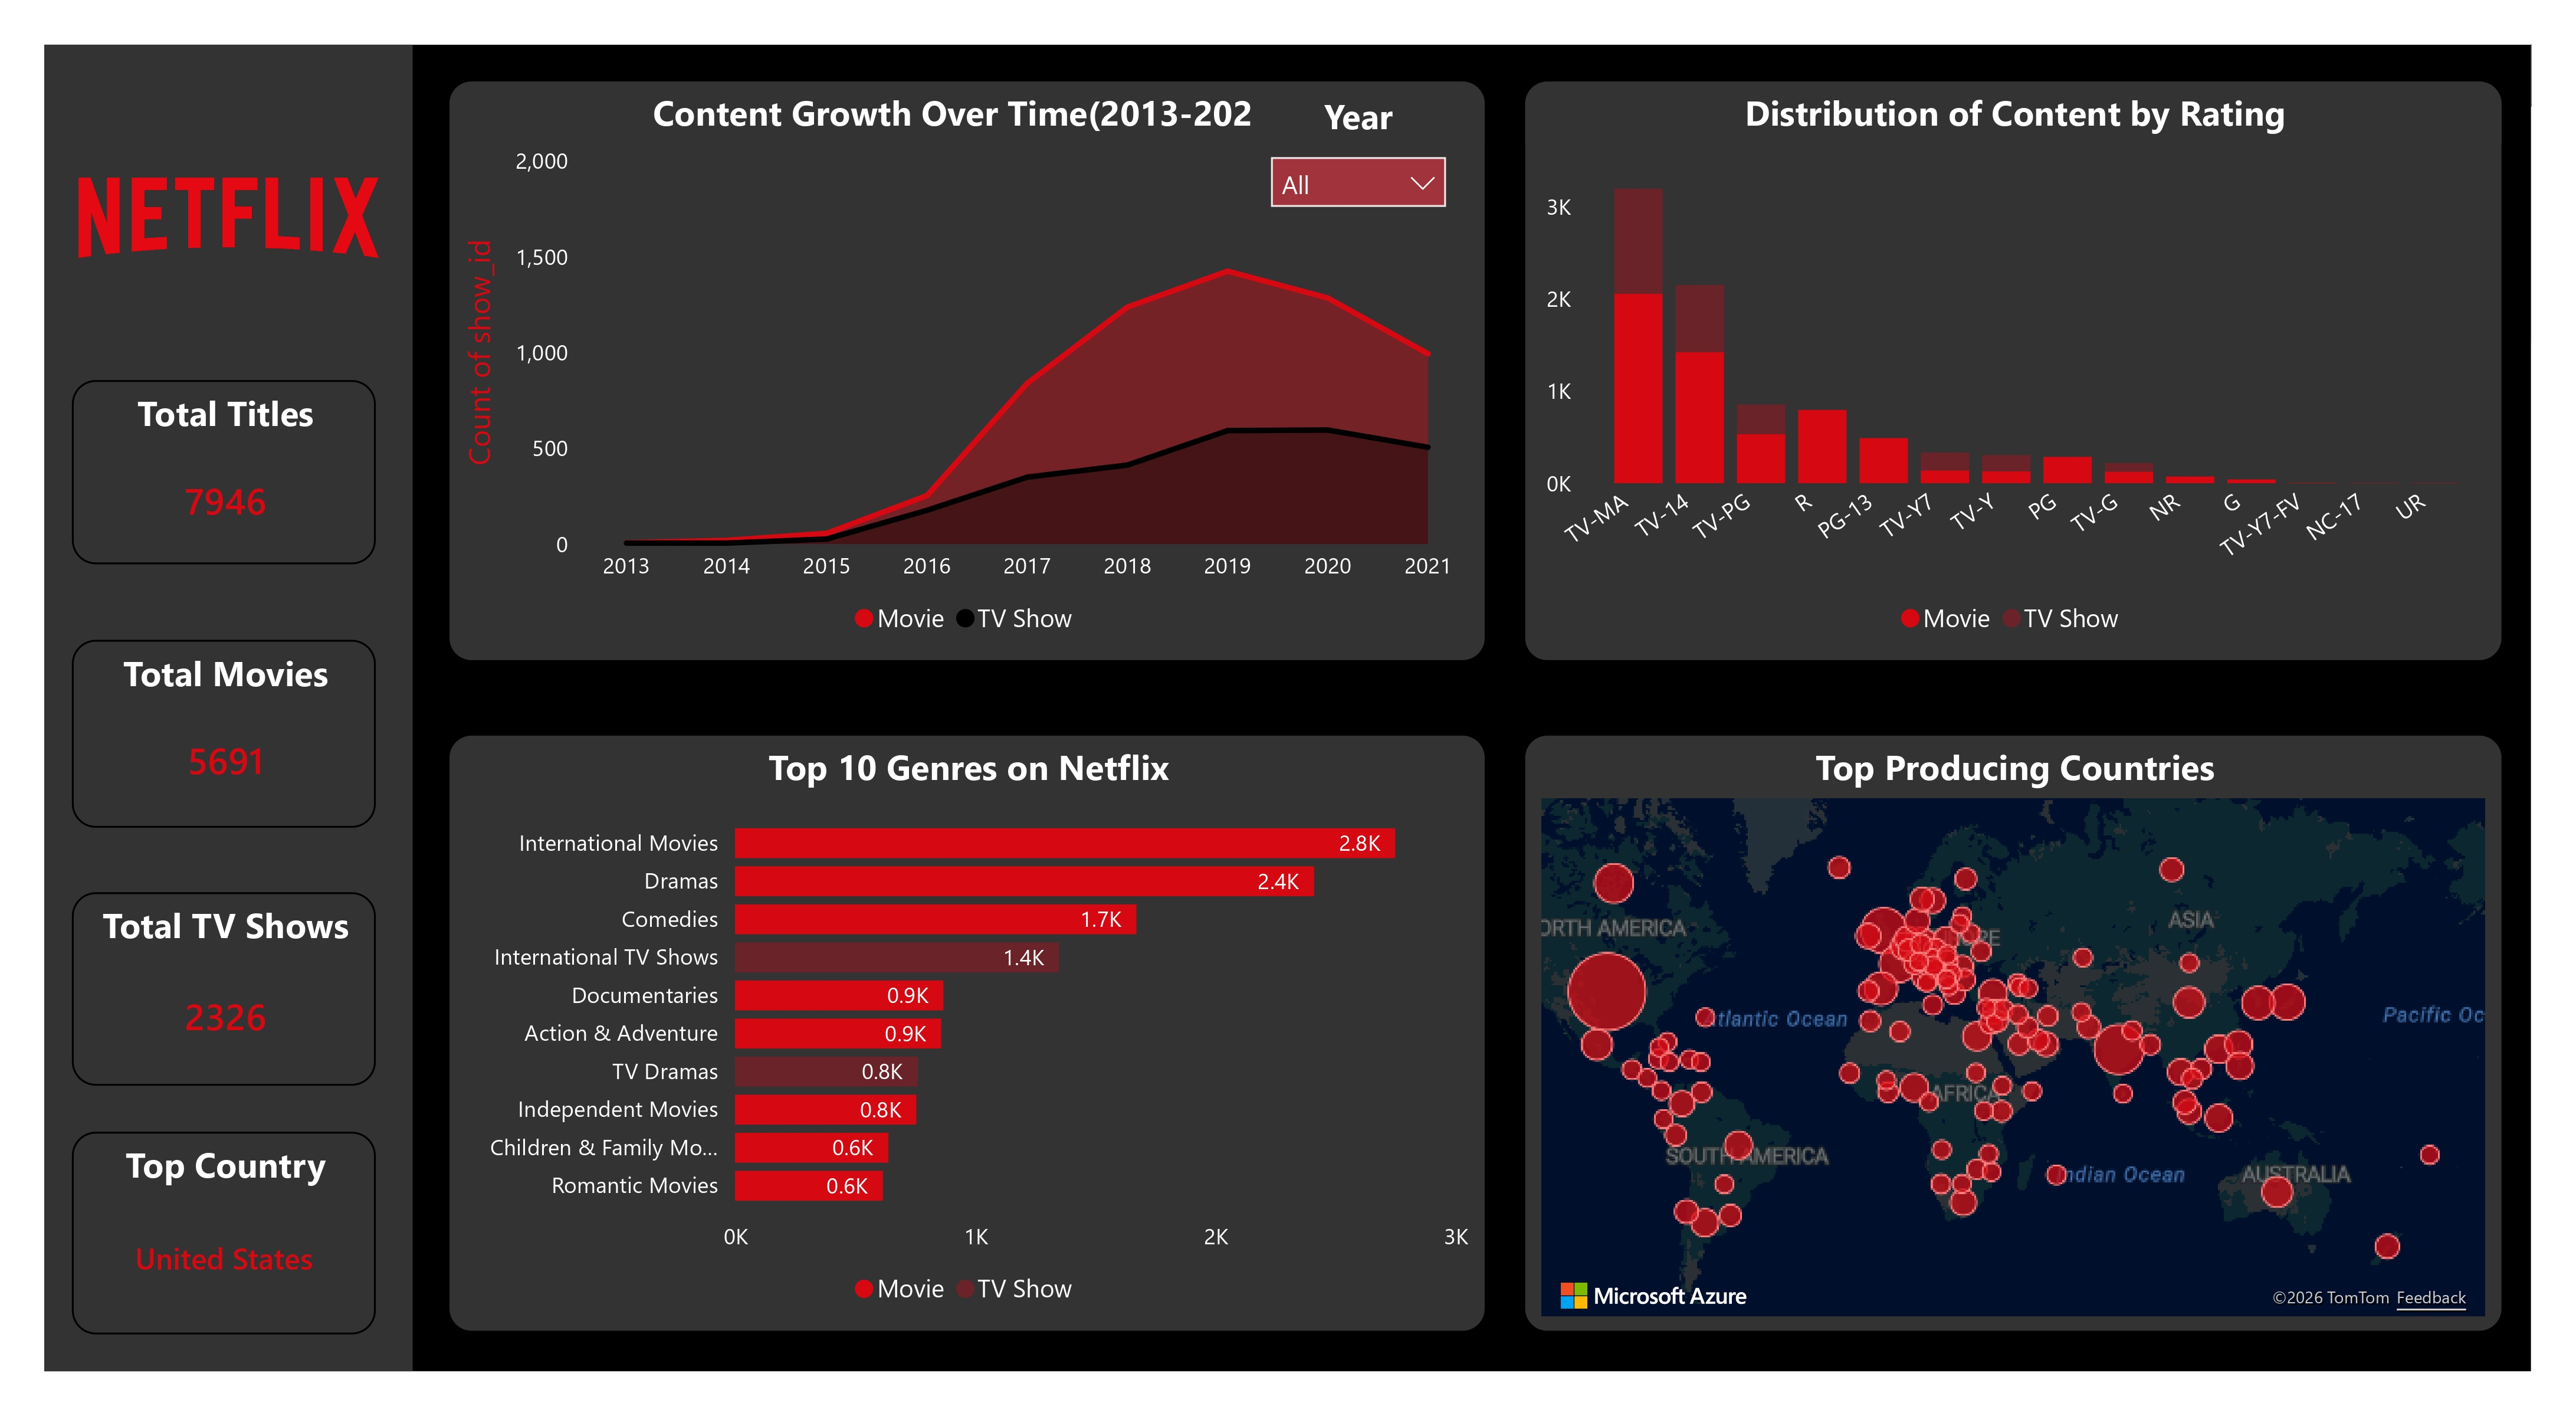

This screenshot's page, from the dashboard's own definition file:
{"tool":"powerbi","page":{"name":"Netflix Content Overview Dashboard","canvas":[1350,720],"ordinal":0},"visuals":[{"type":"shape","box":[0,0,200,720],"z":0},{"type":"areaChart","title":"Content Growth Over Time(2013-2021)","fields":{"Y":["CountNonNull(netflix_titles.show_id)"],"Category":["netflix_titles.date_added.Variation.Date Hierarchy.Year"],"Series":["netflix_titles.type"]},"box":[218.8,19.2,563.7,316.2],"z":1000},{"type":"columnChart","title":"Distribution of Content by Rating ","fields":{"Category":["netflix_titles.rating"],"Y":["CountNonNull(netflix_titles.show_id)"],"Series":["netflix_titles.type"]},"box":[803.3,19.2,531.8,316.2],"z":2000},{"type":"barChart","title":"Top 10 Genres on Netflix","fields":{"Category":["netflix_listed_in.category"],"Series":["netflix_titles.type"],"Y":["CountNonNull(netflix_listed_in.show_id)"]},"box":[218.8,373.7,563.7,325.8],"z":3000},{"type":"azureMap","title":"Top Producing Countries","fields":{"Category":["countries_released.country"],"Size":["CountNonNull(countries_released.show_id)"]},"box":[803.3,373.7,531.8,325.8],"z":4000},{"type":"image","box":[0,0,200,181.7],"z":5000},{"type":"cardVisual","title":"Total Titles","fields":{"Data":["Count(countries_released.show_id)"]},"box":[15,181.7,165,100],"z":6000},{"type":"cardVisual","title":"Total Movies","fields":{"Data":["Count(countries_released.show_id)"]},"box":[15,323.3,165,101.7],"z":7000},{"type":"cardVisual","title":"Total TV Shows","fields":{"Data":["Count(netflix_cast.show_id)"]},"box":[15,460,165,105],"z":8000},{"type":"cardVisual","title":"Top Country","fields":{"Data":["Min(countries_released.country)"]},"box":[15,590,165,110],"z":9000},{"type":"slicer","title":"Year","fields":{"Values":["netflix_titles.date_added.Variation.Date Hierarchy.Year","netflix_titles.date_added.Variation.Date Hierarchy.Month"]},"box":[656.4,25.6,115,65.5],"z":10000}]}

Visuals, with their boxes on the page's 1350x720 design canvas (x1, y1, x2, y2). These are canvas units, not pixel positions in the 2576x1416 screenshot, which may show the page scaled, cropped or inside an application window:
shape: 0/0/200/720
"Content Growth Over Time(2013-2021)" areaChart: 219/19/782/335
"Distribution of Content by Rating " columnChart: 803/19/1335/335
"Top 10 Genres on Netflix" barChart: 219/374/782/700
"Top Producing Countries" azureMap: 803/374/1335/700
image: 0/0/200/182
"Total Titles" cardVisual: 15/182/180/282
"Total Movies" cardVisual: 15/323/180/425
"Total TV Shows" cardVisual: 15/460/180/565
"Top Country" cardVisual: 15/590/180/700
"Year" slicer: 656/26/771/91
